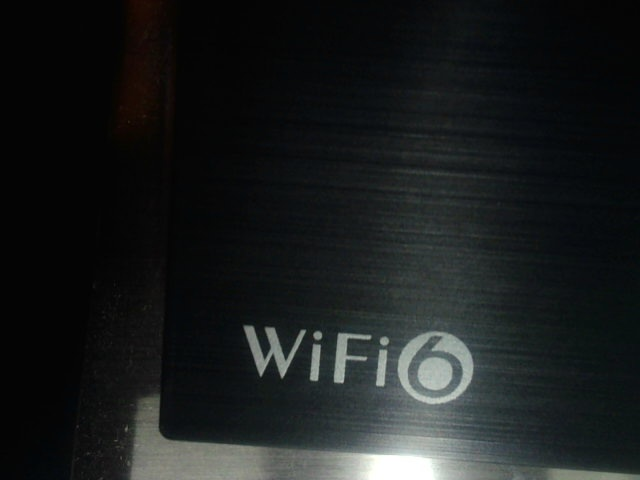AK_ZTEWIFI6Black: (237, 308, 481, 412)
